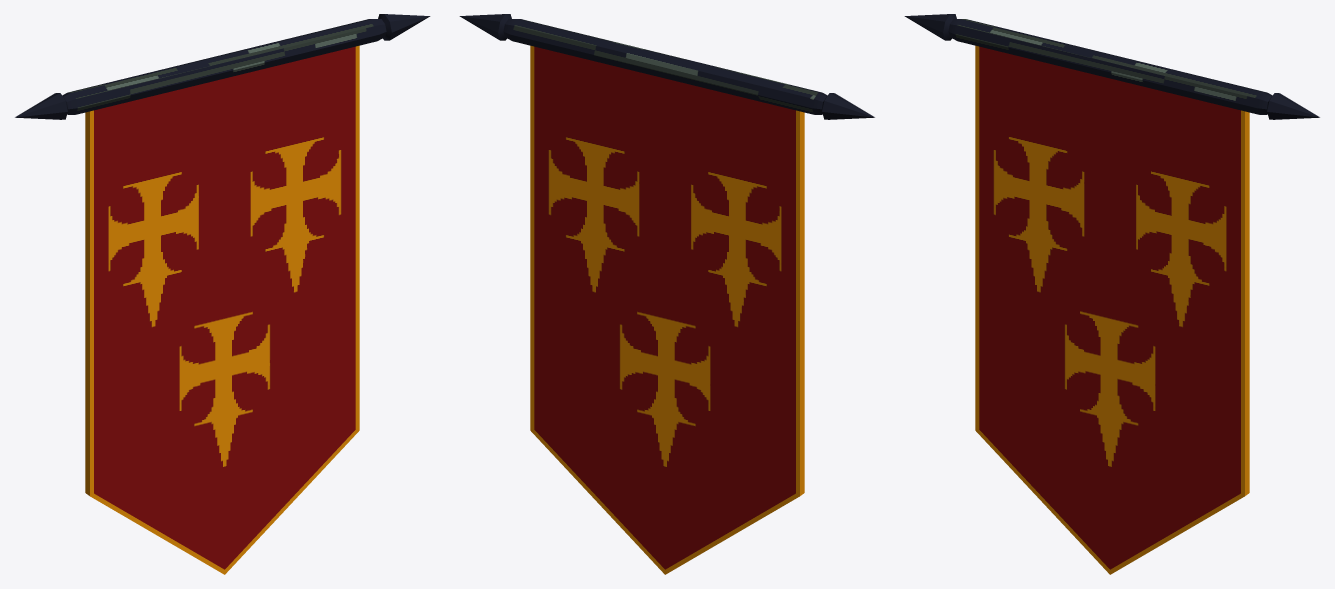
Rendered from SM_Flag.fbx.
The picture shows the model from 3 angles, left to right: view 1: azimuth 30°, elevation 25°; view 2: azimuth 150°, elevation 25°; view 3: azimuth 330°, elevation 25°; orthographic projection.
Visible parts, largest first — view 1: SM_Flag; view 2: SM_Flag; view 3: SM_Flag.
Boxes of the visible parts, x1,y1,x2,y2 form: SM_Flag: (15,14,430,574); SM_Flag: (459,14,874,574); SM_Flag: (904,14,1319,574).
Size of the model in its own units: 213 by 254 by 13.09.
